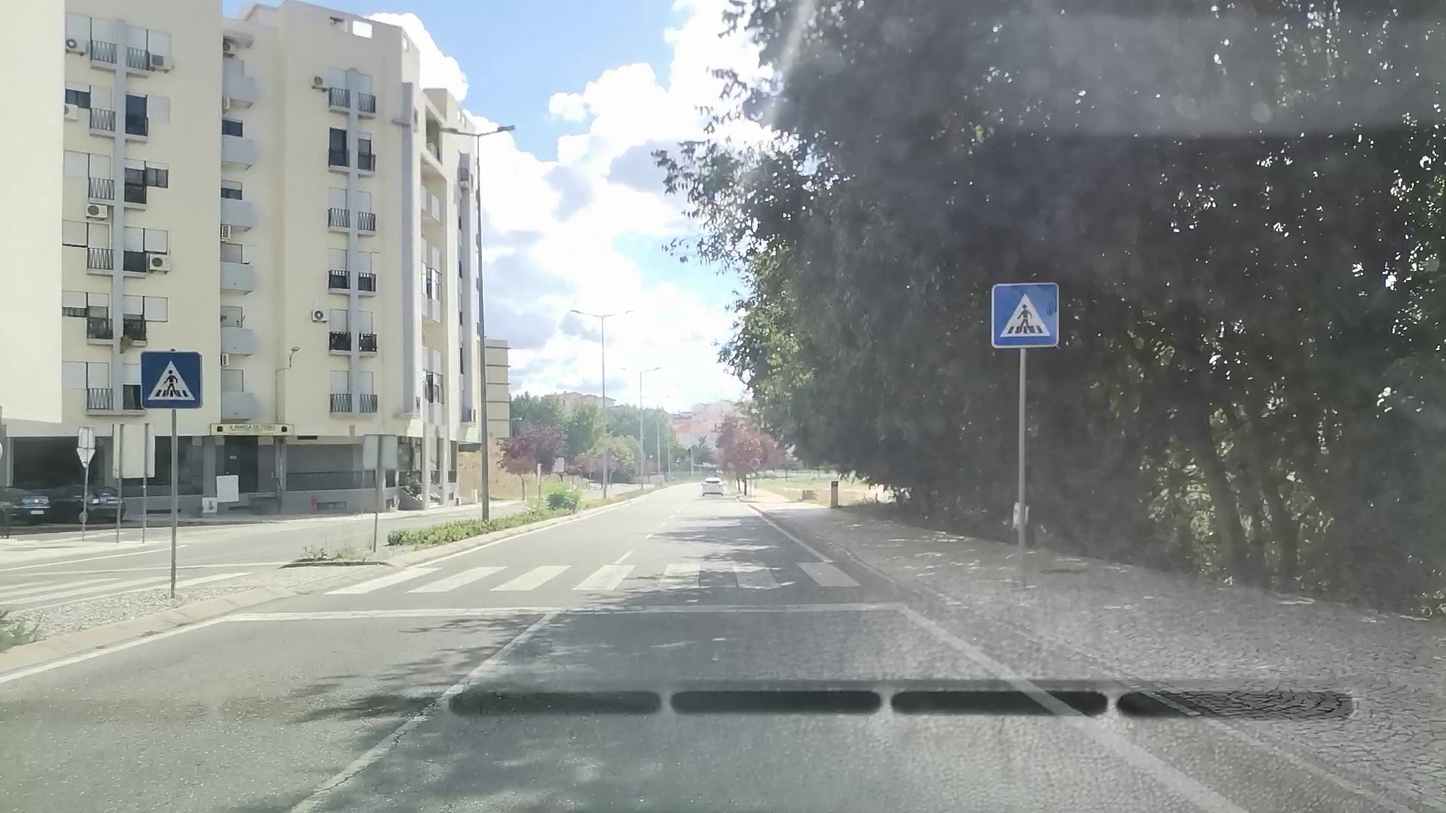Stairs: (325, 562, 862, 598)
